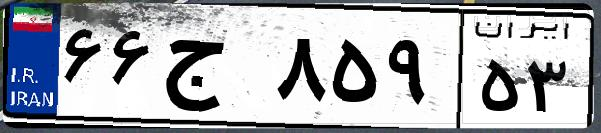3: (525, 38, 570, 115)
5: (330, 28, 385, 110), (475, 38, 525, 113)
6: (57, 26, 110, 100), (110, 28, 158, 98)
8: (270, 28, 330, 110)
9: (385, 28, 445, 110)
ج: (158, 20, 270, 120)
